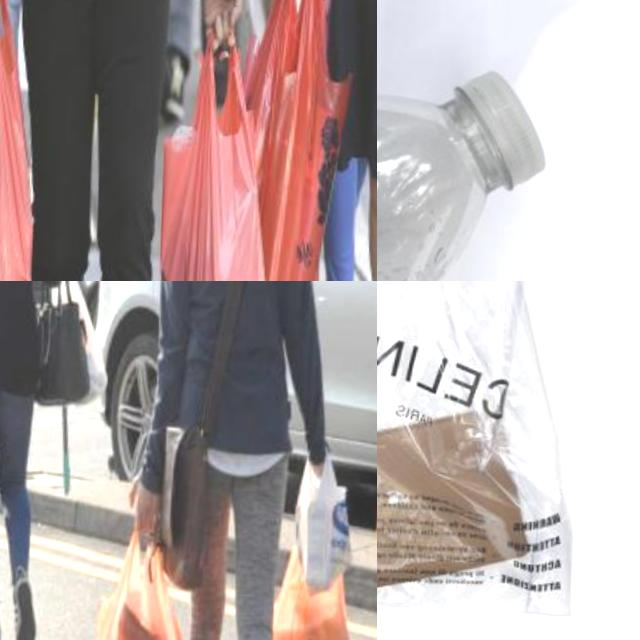garrafa plástica: (377, 79, 490, 281)
sacola plástica: (377, 281, 611, 638), (150, 40, 280, 281), (233, 0, 343, 281), (81, 496, 201, 640), (282, 430, 360, 606), (54, 281, 117, 414), (255, 570, 362, 640)
tampa plástica: (451, 65, 549, 194)
